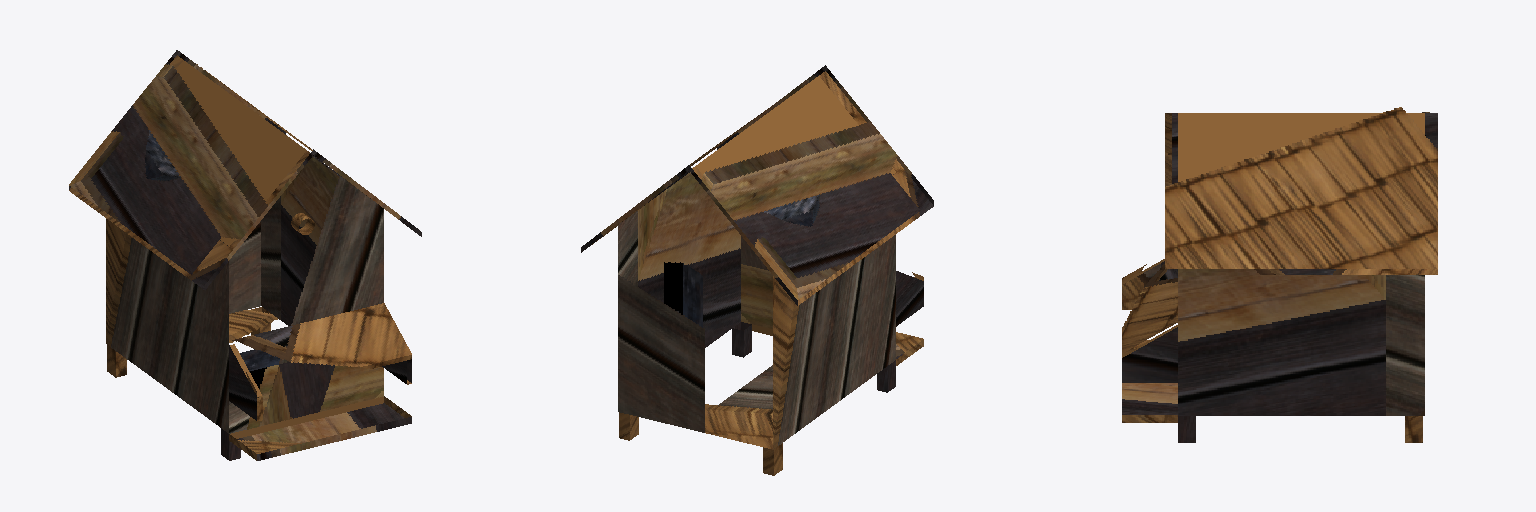
3 renders of one model, left to right at view 1: azimuth 30°, elevation 25°; view 2: azimuth 150°, elevation 25°; view 3: azimuth 270°, elevation 25°, orthographic.
Parts seen in each view (by area): view 1: Cube; view 2: Cube; view 3: Cube.
Part boxes in pixels (x1,y1,x2,y2): Cube: (69, 50, 421, 460); Cube: (581, 65, 933, 475); Cube: (1122, 107, 1437, 442).
Bounding box in the file's own units: 0.84 × 1.1 × 1.06.
Materials: 1 (1 with a texture image).